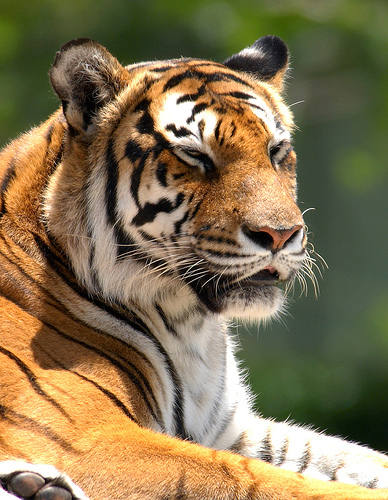Tigre: (11, 27, 330, 462)
